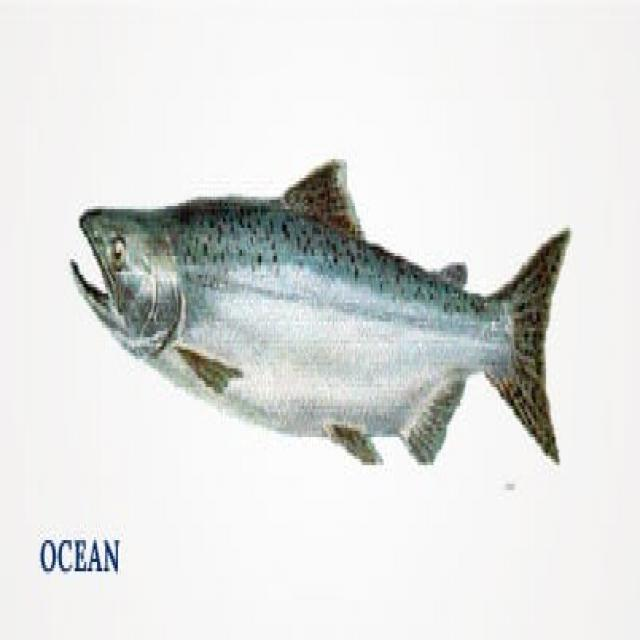salmon: (66, 143, 572, 507)
